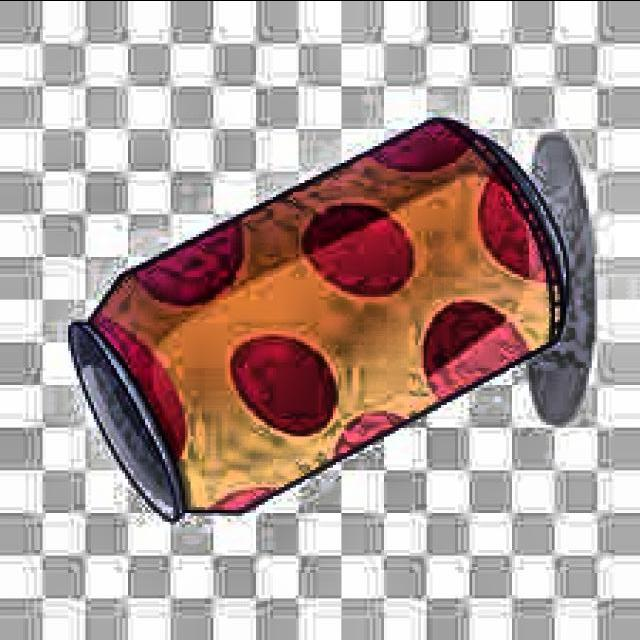litter: (46, 102, 596, 524)
